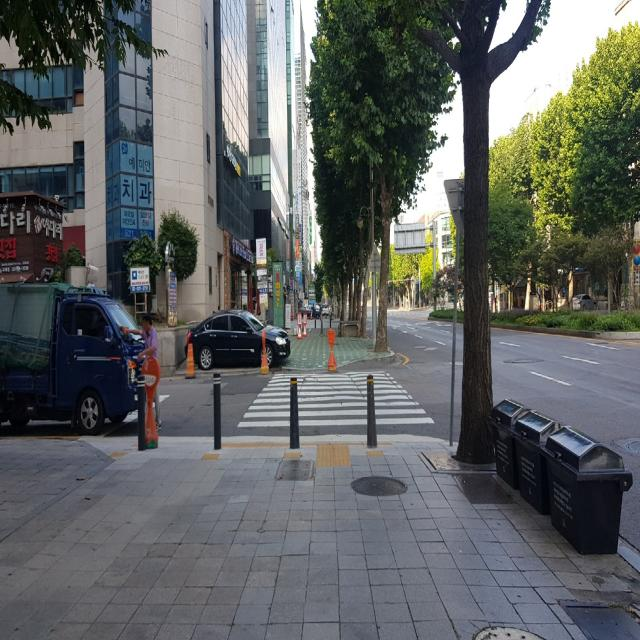횡단보도: (236, 370, 434, 428)
